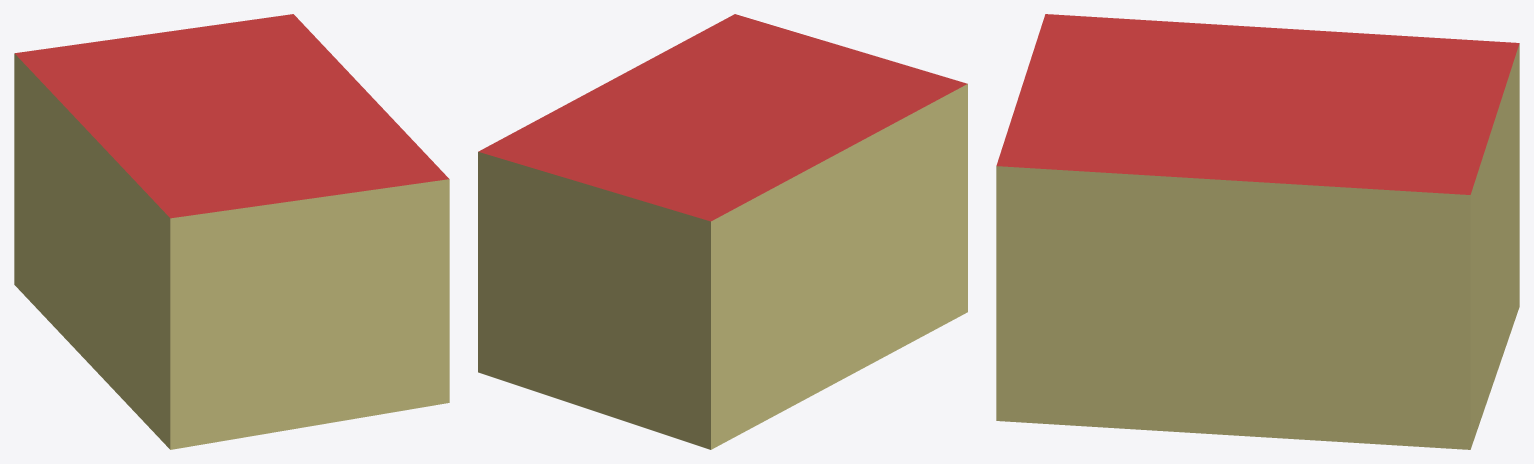
3 views of the same model, side by side, from view 1: azimuth 30°, elevation 25°; view 2: azimuth 150°, elevation 25°; view 3: azimuth 270°, elevation 25° (orthographic). The views are drawn at different scales.
Bounding box in the file's own units: 9.14 × 11.74 × 6.53.
